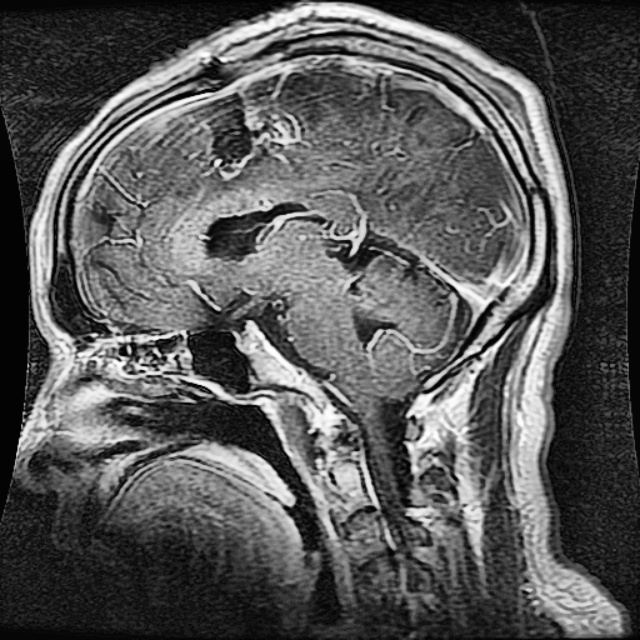Meningioma: (184, 85, 268, 175)
